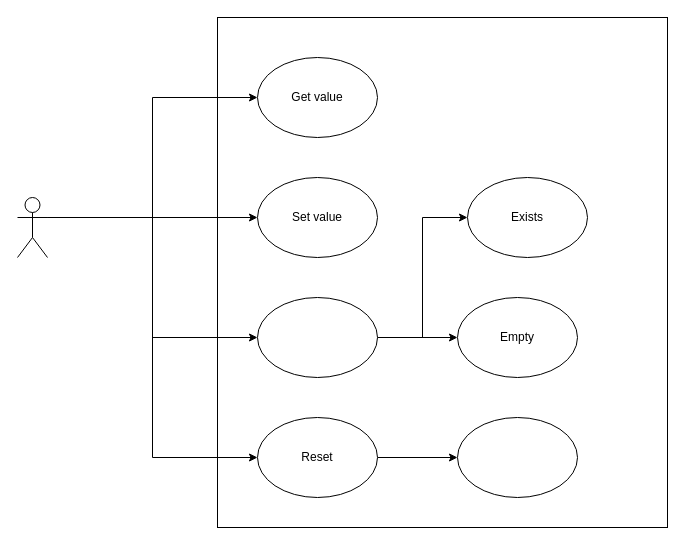
Image size: 685x545. Some labels were removed from this diagram. The centre of each missing label's shape, as x and y in pixels:
"Actor" goes at (32,227).
"Check" goes at (317,337).
"Generate" goes at (517,457).
